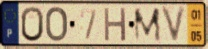7: (79, 9, 98, 41)
H: (103, 6, 128, 43)
M: (132, 6, 163, 43)
O: (20, 5, 45, 43), (45, 5, 69, 43)
V: (159, 4, 189, 45)
